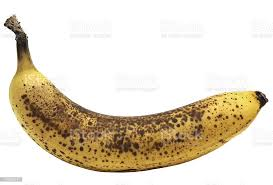looks_defective: (6, 4, 267, 184)
